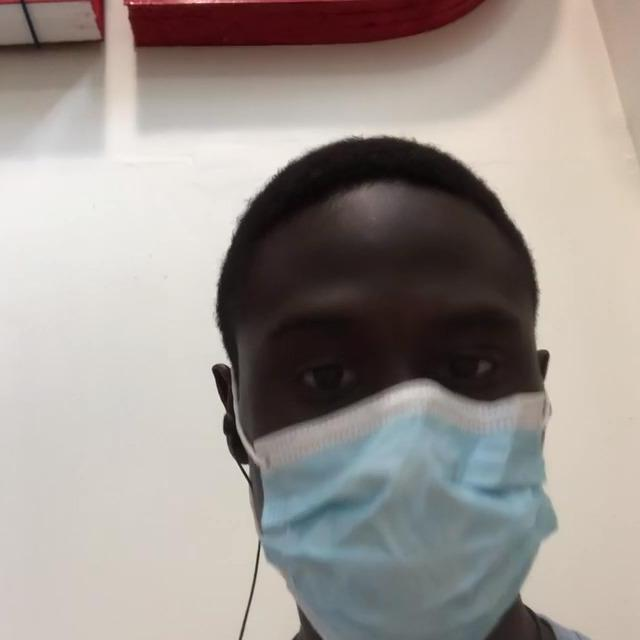Mask: (238, 389, 557, 640)
NO-Hardhat: (216, 140, 537, 267)
Person: (0, 127, 640, 640)
